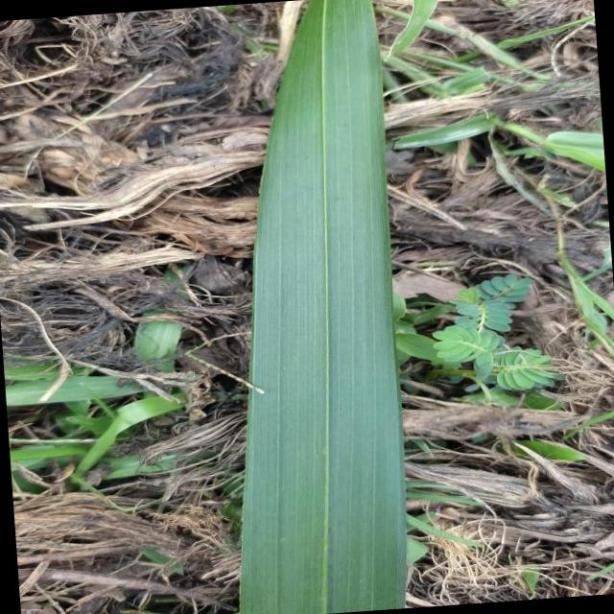Healthy: (246, 0, 406, 614)
